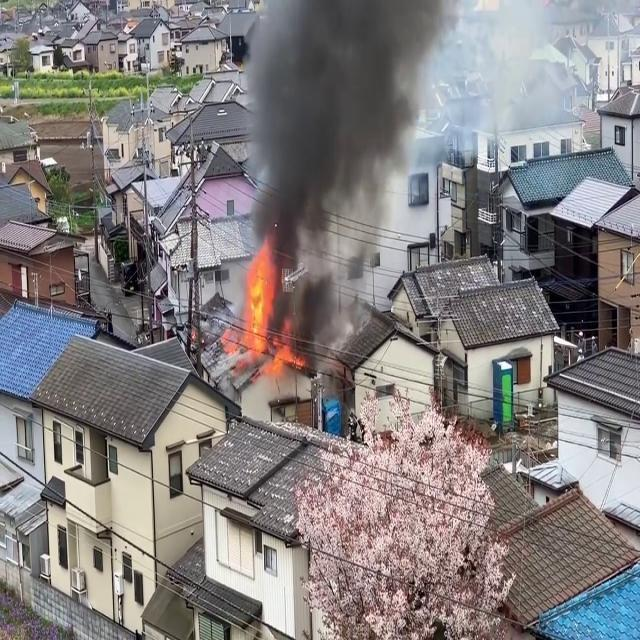Fire: (237, 239, 278, 358)
Smoke: (239, 0, 433, 336)
